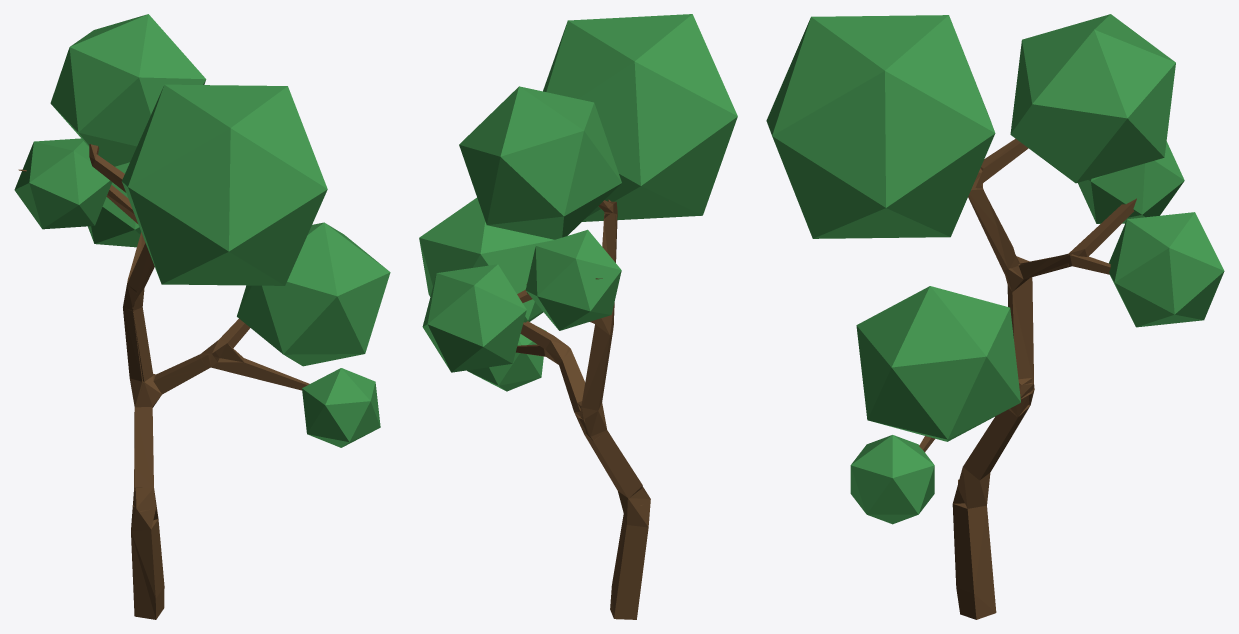
Rendered from whackTree.fbx.
3 renders of one model, left to right at view 1: azimuth 30°, elevation 25°; view 2: azimuth 150°, elevation 25°; view 3: azimuth 270°, elevation 25°, orthographic. The views are drawn at different scales.
Visible parts, largest first — view 1: Icosphere.002; view 2: Icosphere.002; view 3: Icosphere.002.
Boxes of the visible parts, box(x1,y1,x2,y2) form: Icosphere.002: box(14, 14, 390, 619); Icosphere.002: box(419, 14, 737, 619); Icosphere.002: box(766, 14, 1224, 619).
Bounding box in the file's own units: 388 × 744 × 503.
